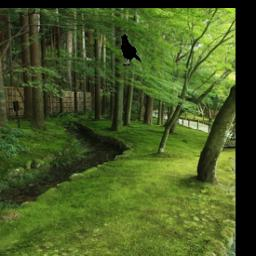Crow: (119, 33, 141, 66)
